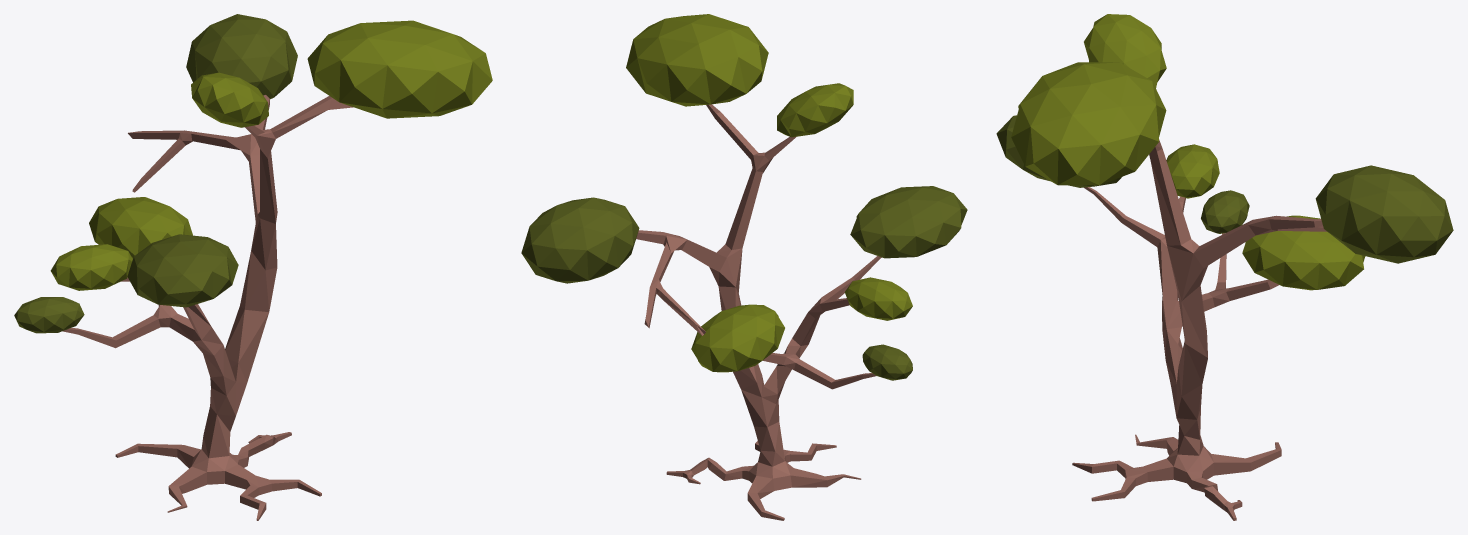
Rendered from Big Tree_1.fbx.
3 views of the same model, side by side, from view 1: azimuth 30°, elevation 25°; view 2: azimuth 150°, elevation 25°; view 3: azimuth 270°, elevation 25° (orthographic). The views are drawn at different scales.
Parts seen in each view (by area): view 1: Big Tree_1; view 2: Big Tree_1; view 3: Big Tree_1.
Part boxes in pixels (<box>): Big Tree_1: <box>14,14,492,520</box>; Big Tree_1: <box>521,14,967,520</box>; Big Tree_1: <box>996,14,1453,520</box>.
Size of the model in its own units: 6.65 by 7.27 by 6.58.
